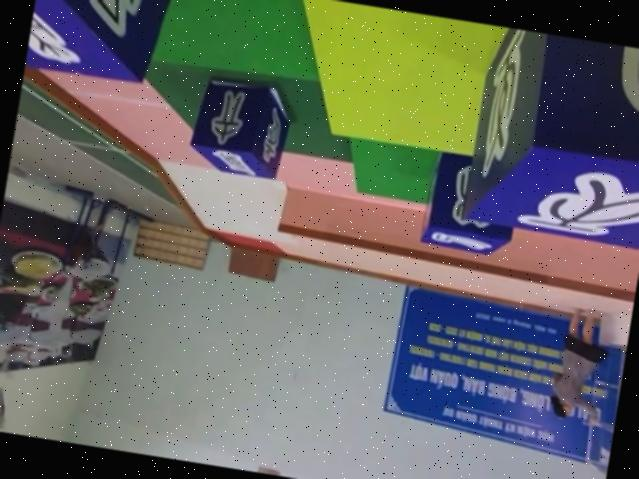R2 Fake Blue: (460, 24, 639, 259), (183, 73, 293, 181)
R2 Real Blue: (23, 0, 176, 87)
